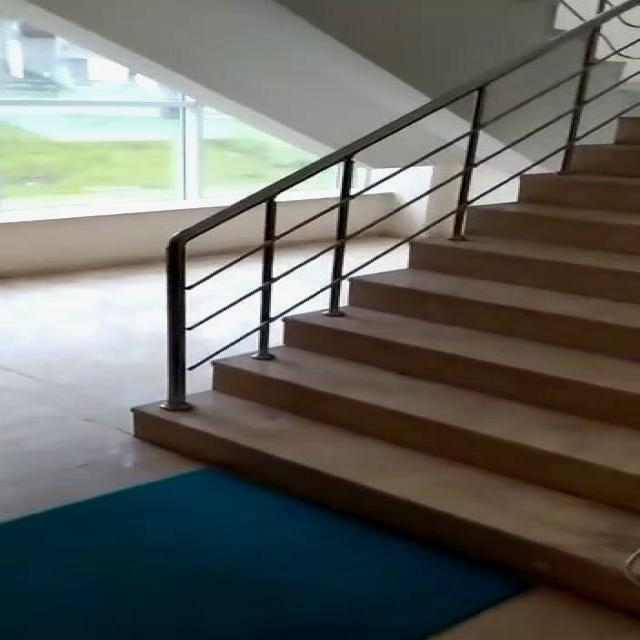stair: (134, 68, 630, 634)
